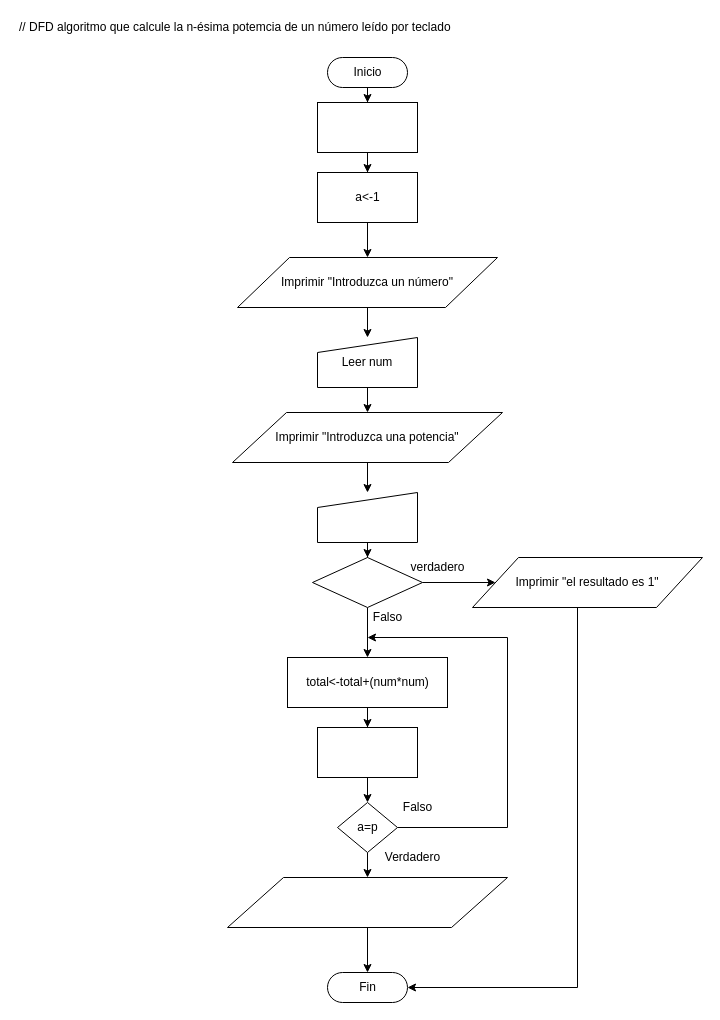
This 720x1020 diagram has some shape labels left out. Each missing label, with the centre of its shape:
a<-a+1: pixel 367 752
Imprimir num + "^" + n + " = " + total: pixel 367 902
Leer p: pixel 367 517
p=0: pixel 367 582
total<-0: pixel 367 127
